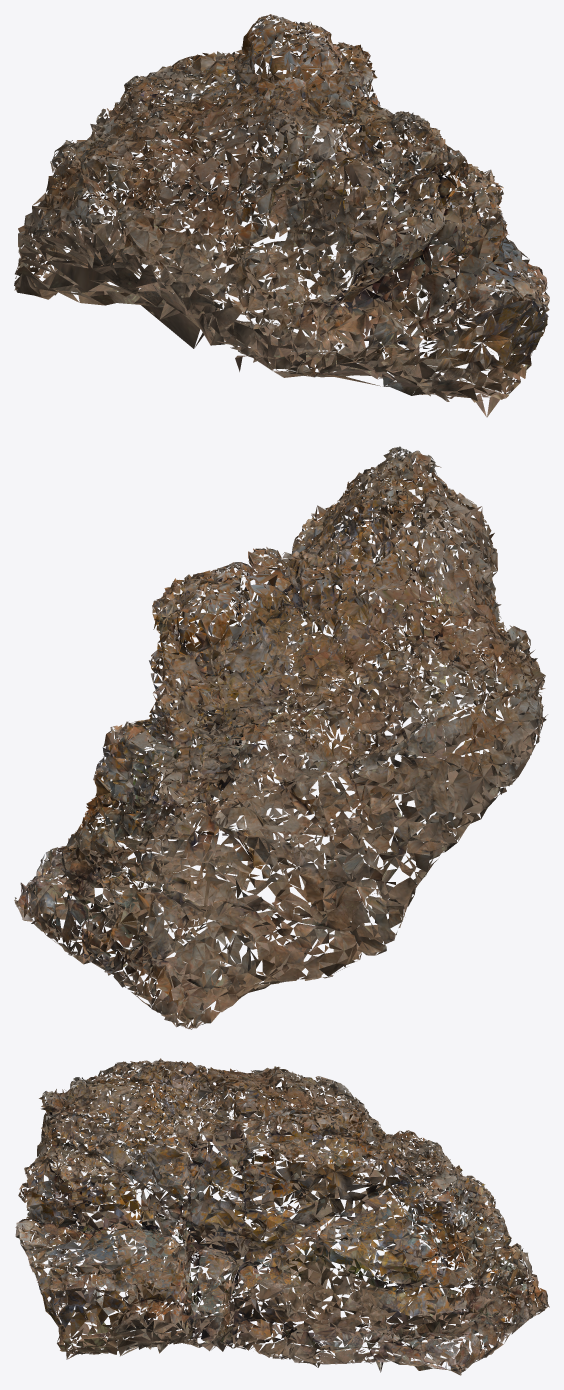
Rendered from boulder_01.glb.
3 views of the same model, one above another, from view 1: azimuth 30°, elevation 25°; view 2: azimuth 150°, elevation 25°; view 3: azimuth 270°, elevation 25° (orthographic). The views are drawn at different scales.
Visible parts, largest first — view 1: boulder_01_0; view 2: boulder_01_0; view 3: boulder_01_0.
Part boxes in pixels (left/top/right/bottom): boulder_01_0: left=14, top=14, right=549, bottom=417; boulder_01_0: left=14, top=446, right=547, bottom=1029; boulder_01_0: left=15, top=1058, right=549, bottom=1375.
Size of the model in its own units: 1.28 by 1.01 by 1.84.
1 material, 1 textured.
